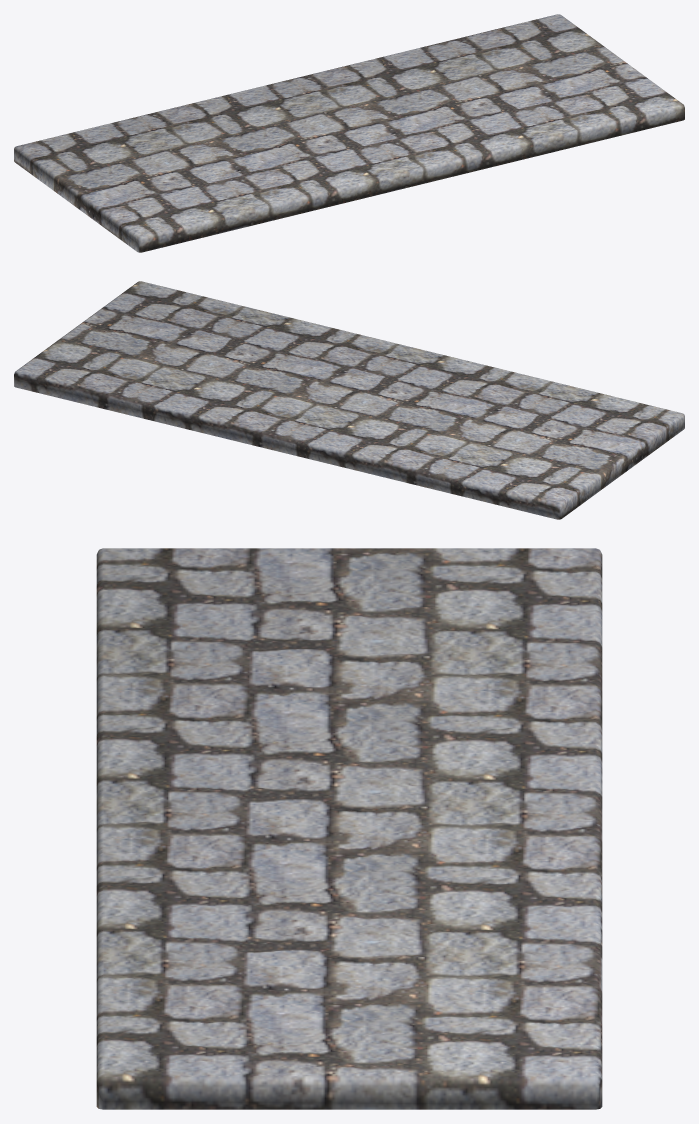
Rendered from Chinese_Base.fbx.
The picture shows the model from 3 angles, top to bottom: view 1: azimuth 30°, elevation 25°; view 2: azimuth 150°, elevation 25°; view 3: azimuth 270°, elevation 25°; orthographic projection. The views are drawn at different scales.
Visible parts, largest first — view 1: Chinese_Base; view 2: Chinese_Base; view 3: Chinese_Base.
Part boxes in pixels (x1=…): Chinese_Base: x1=14, y1=14, x2=684, y2=252; Chinese_Base: x1=14, y1=281, x2=684, y2=519; Chinese_Base: x1=96, y1=548, x2=602, y2=1109.
Size of the model in its own units: 17.57 by 0.4581 by 7.03.
